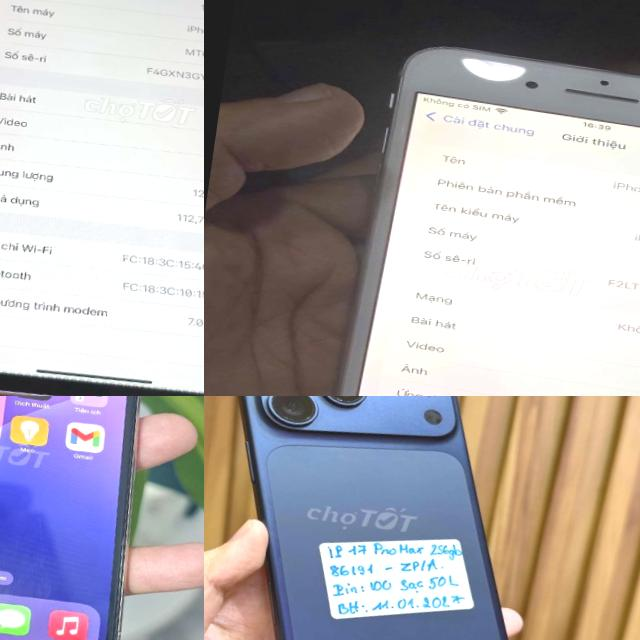gen_11: (0, 396, 192, 640)
gen_17: (204, 396, 572, 640)
gen_7_8: (297, 23, 640, 396)
gen_x_xs: (0, 0, 204, 396)
screen_defect: (444, 52, 532, 89)
